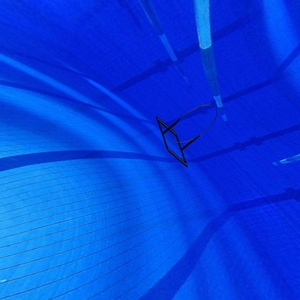circle: (156, 103, 220, 169)
